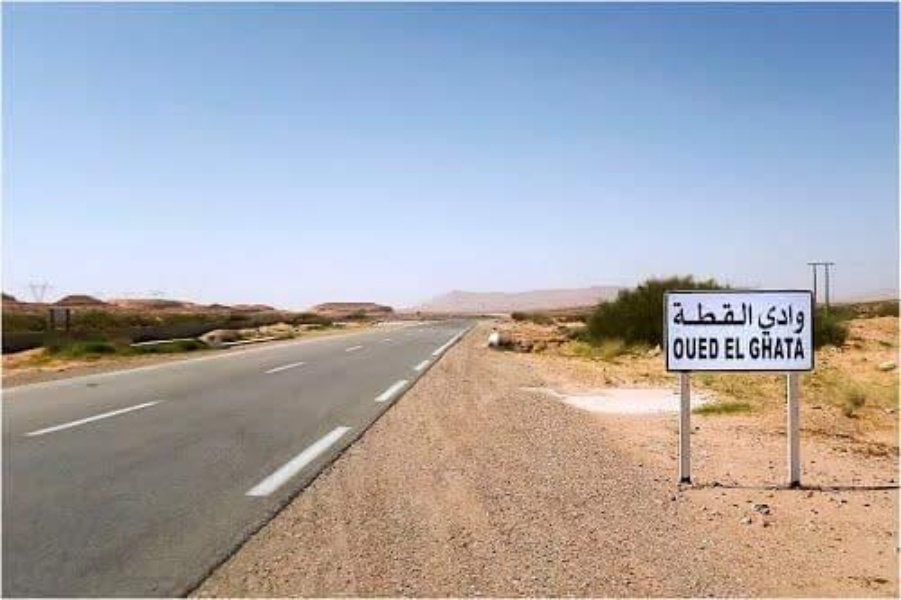text: (769, 301, 784, 337), (785, 301, 800, 337), (705, 334, 721, 361), (673, 301, 688, 328), (689, 301, 704, 328), (705, 301, 720, 328), (721, 301, 736, 328), (737, 301, 752, 328), (673, 334, 688, 361), (689, 334, 704, 361), (753, 336, 768, 361), (769, 336, 784, 361), (785, 336, 800, 361), (759, 301, 768, 337), (725, 337, 736, 361), (737, 337, 745, 361), (801, 301, 806, 337), (801, 336, 806, 361), (748, 336, 752, 361), (753, 301, 756, 328)
